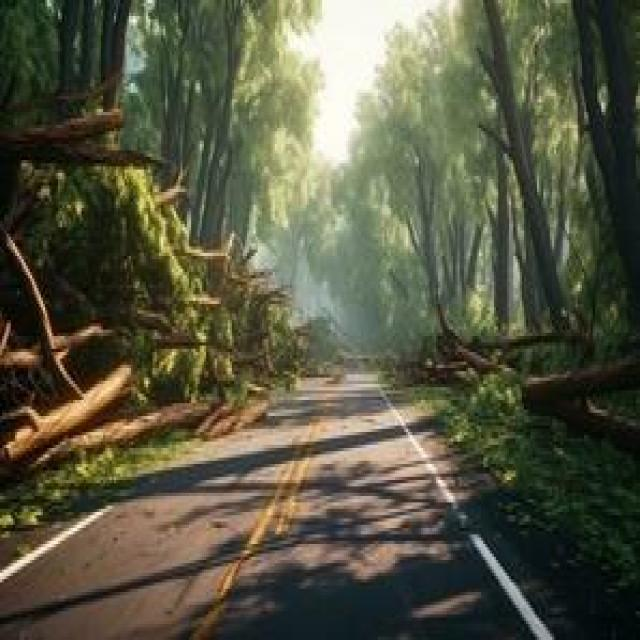road collapse: (45, 0, 640, 637)
